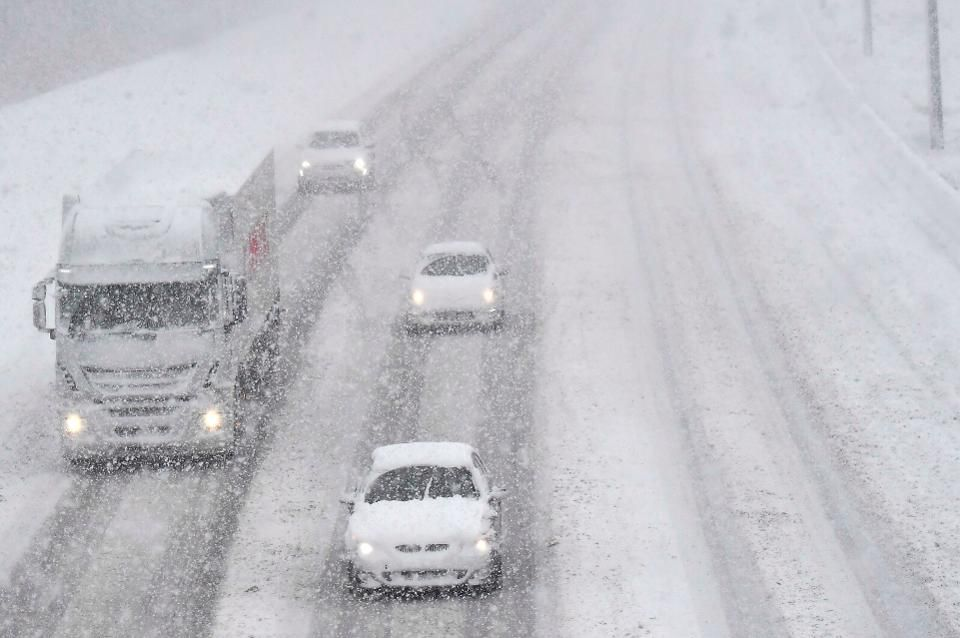car: (347, 444, 501, 595), (398, 242, 502, 335), (297, 120, 378, 186)
truck: (36, 136, 281, 471)
